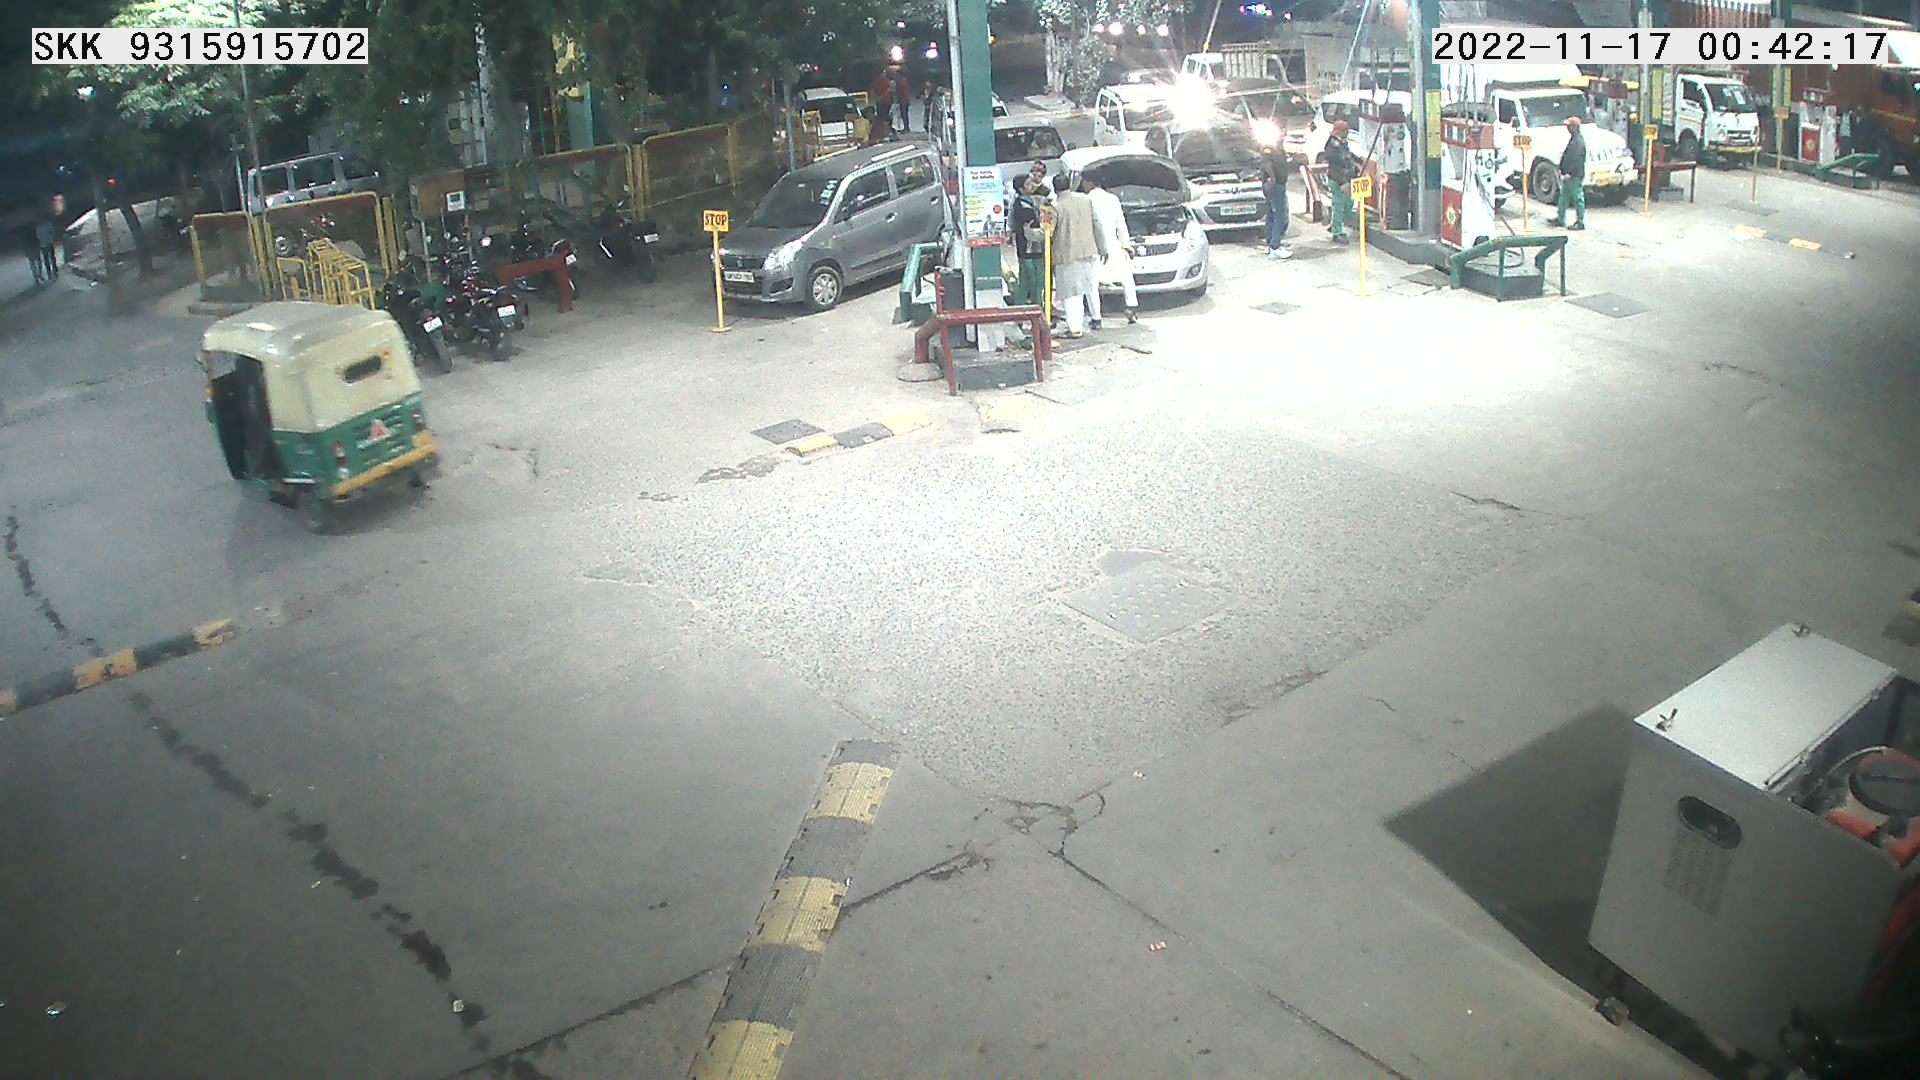Auto: (196, 280, 452, 525)
Bike: (1731, 953, 1917, 1076), (363, 231, 465, 382), (571, 170, 676, 305), (433, 218, 530, 363), (491, 196, 585, 316)
Car: (684, 123, 965, 324), (1000, 133, 1222, 334), (233, 117, 436, 266), (1126, 98, 1299, 257), (1287, 78, 1422, 233), (968, 88, 1102, 237), (771, 69, 899, 198), (1200, 67, 1327, 186), (1076, 62, 1226, 161), (906, 80, 975, 206), (1160, 36, 1247, 121), (1113, 41, 1185, 105)
HMV: (1655, 0, 1917, 196), (1429, 11, 1646, 218), (1586, 32, 1787, 187), (1278, 3, 1416, 144), (1215, 13, 1325, 113)
Others: (1004, 165, 1052, 353), (1545, 102, 1600, 247), (1323, 102, 1371, 252)
Others Other: (1025, 194, 1068, 345), (698, 202, 744, 343), (1340, 173, 1383, 313), (1507, 125, 1542, 247), (1626, 119, 1663, 228), (1764, 92, 1797, 191), (1742, 123, 1767, 214)
